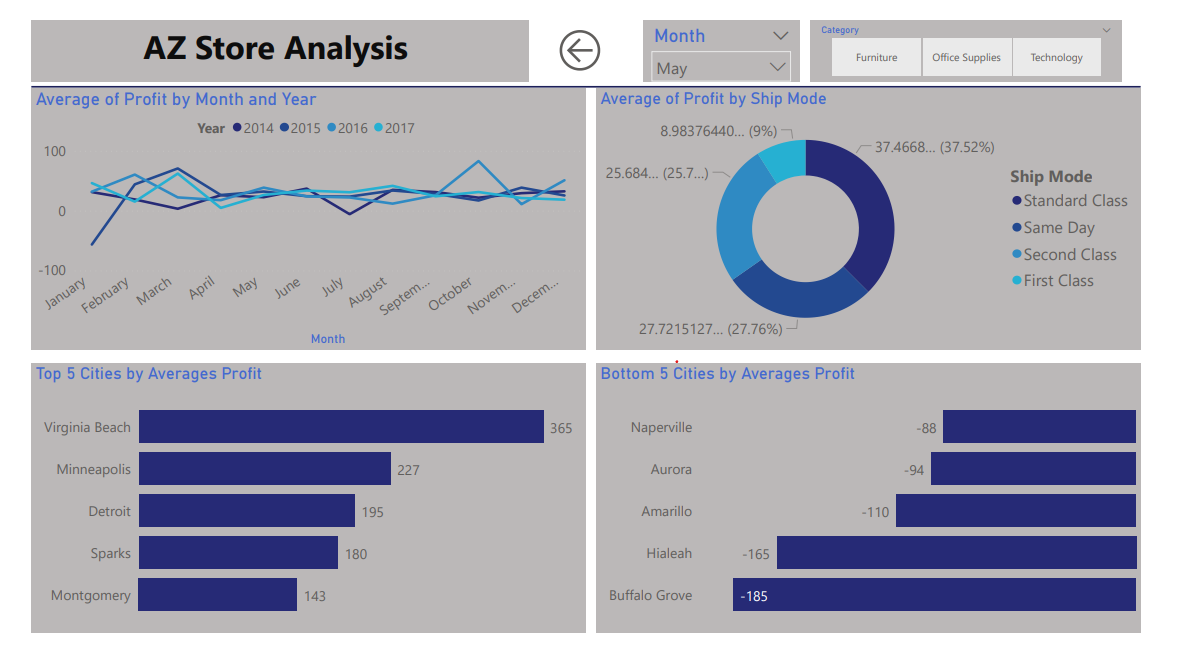

What the dashboard file says about the page in this screenshot:
{"tool":"powerbi","page":{"name":"Profit","canvas":[1280,720],"ordinal":1},"visuals":[{"type":"lineChart","fields":{"Category":["Orders.Order Date.Variation.Date Hierarchy.Month"],"Series":["Orders.Order Date.Variation.Date Hierarchy.Year"],"Y":["Avg(Orders.Profit)"]},"box":[0,79,640,302.4],"z":0},{"type":"donutChart","fields":{"Y":["Avg(Orders.Profit)"],"Category":["Orders.Ship Mode"]},"box":[651.8,79,628.2,302.4],"z":1000},{"type":"barChart","title":"Top 5 Cities by Averages Profit","fields":{"Y":["Avg(Orders.Profit)"],"Category":["Orders.City"]},"box":[0,396.4,640,310.8],"z":2000},{"type":"barChart","title":"Bottom 5 Cities by Averages Profit","fields":{"Y":["Avg(Orders.Profit)"],"Category":["Orders.City"]},"box":[651.8,396.4,628.2,310.8],"z":3000},{"type":"slicer","fields":{"Values":["Orders.Category"]},"box":[898.7,0,359.5,70.6],"z":4000},{"type":"slicer","fields":{"Values":["Orders.Order Date.Variation.Date Hierarchy.Month"]},"box":[705.5,0,181.4,70.6],"z":5000},{"type":"actionButton","box":[598,0,97.4,70.6],"z":6000},{"type":"textbox","box":[0,0,574.5,70.6],"z":7000},{"type":"shape","box":[0,70.6,1280,13.4],"z":8000}]}

Visuals, with their boxes in screenshot pixels (x1, y1, x2, y2), scaled from the page's 1280x720 canvas onto the 1191x666 screenshot:
lineChart - Orders.Order Date.Variation.Date Hierarchy.Month x Orders.Order Date.Variation.Date Hierarchy.Year: locate(0, 73, 596, 353)
donutChart - Avg(Orders.Profit) x Orders.Ship Mode: locate(606, 73, 1190, 353)
"Top 5 Cities by Averages Profit" barChart: locate(0, 367, 596, 654)
"Bottom 5 Cities by Averages Profit" barChart: locate(606, 367, 1190, 654)
slicer - Orders.Category: locate(836, 0, 1171, 65)
slicer - Orders.Order Date.Variation.Date Hierarchy.Month: locate(656, 0, 825, 65)
actionButton: locate(556, 0, 647, 65)
textbox: locate(0, 0, 535, 65)
shape: locate(0, 65, 1190, 78)
